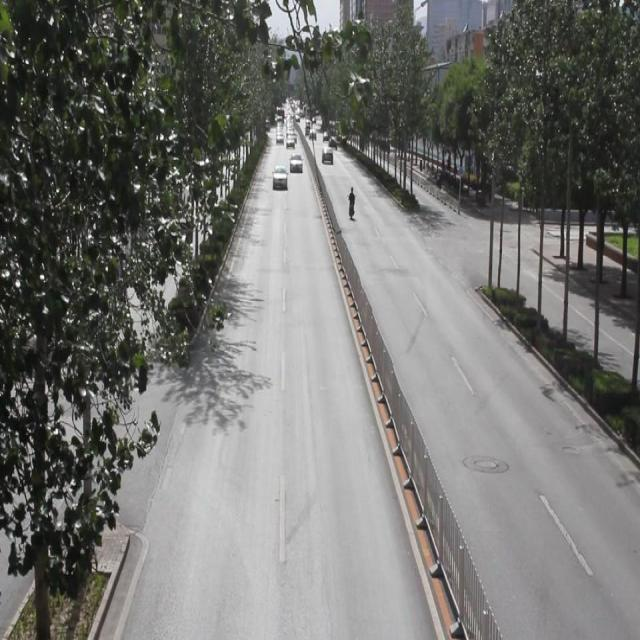car: (272, 165, 287, 188), (289, 154, 303, 172)
